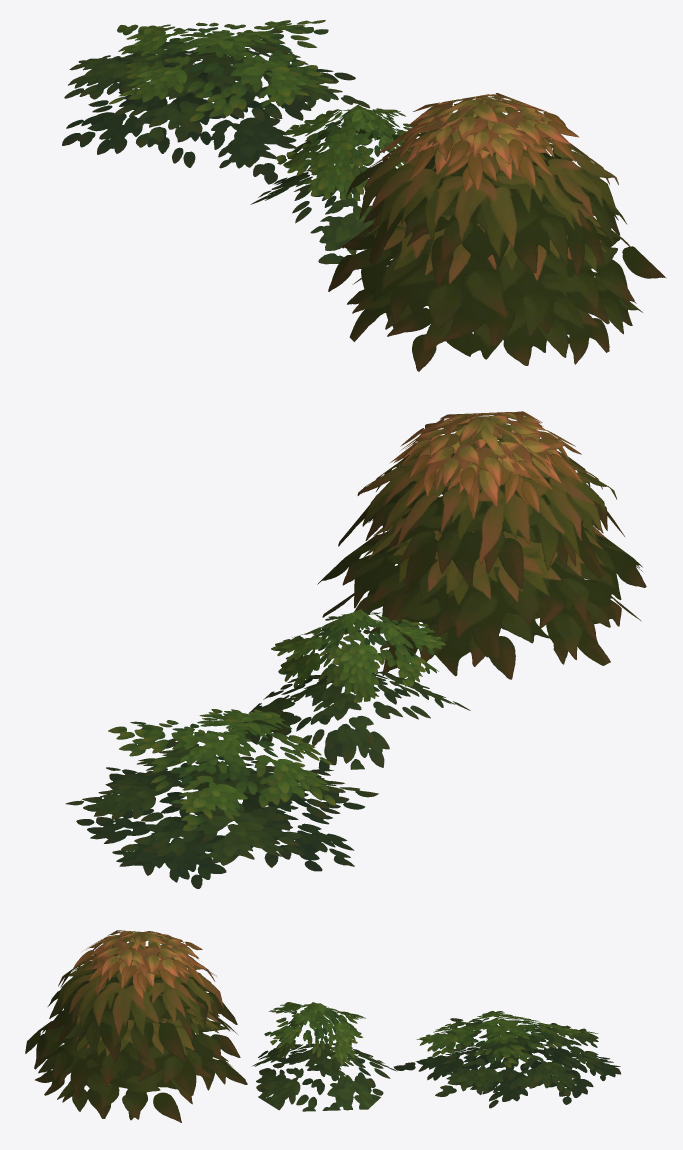
Rendered from 2_Misc_ZuJian_01.FBX.
3 views of the same model, one above another, from view 1: azimuth 30°, elevation 25°; view 2: azimuth 150°, elevation 25°; view 3: azimuth 270°, elevation 25° (orthographic). The views are drawn at different scales.
Visible parts, largest first — view 1: 2_Misc_Cao_05, 2_Misc_Cao_03, 2_Misc_Cao_04; view 2: 2_Misc_Cao_05, 2_Misc_Cao_03, 2_Misc_Cao_04; view 3: 2_Misc_Cao_05, 2_Misc_Cao_03, 2_Misc_Cao_04.
Boxes of the visible parts, left/top/right/bottom form: 2_Misc_Cao_05: left=328, top=93, right=666, bottom=371; 2_Misc_Cao_03: left=62, top=20, right=369, bottom=184; 2_Misc_Cao_04: left=250, top=105, right=416, bottom=264; 2_Misc_Cao_05: left=317, top=411, right=646, bottom=679; 2_Misc_Cao_03: left=65, top=709, right=378, bottom=888; 2_Misc_Cao_04: left=232, top=609, right=470, bottom=769; 2_Misc_Cao_05: left=25, top=930, right=247, bottom=1122; 2_Misc_Cao_03: left=394, top=1011, right=620, bottom=1108; 2_Misc_Cao_04: left=252, top=1002, right=396, bottom=1111.
Bounding box in the file's own units: 389 × 222 × 852.
